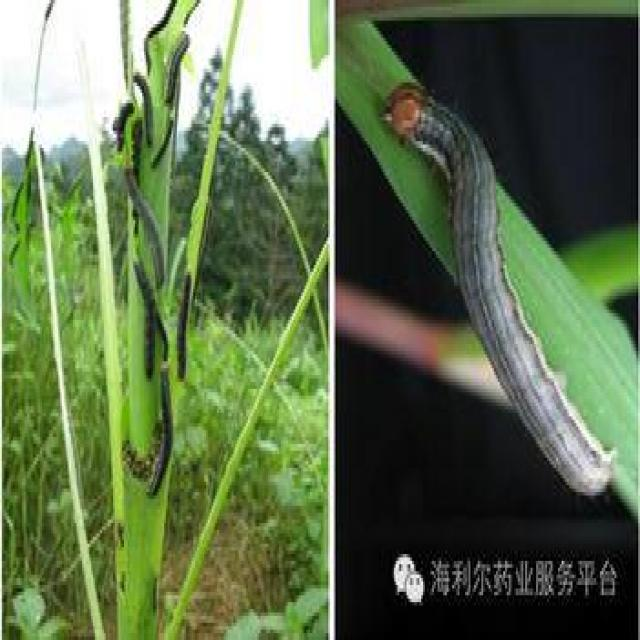BeetArmyWorm-Larva-: (372, 79, 624, 522), (124, 166, 169, 294), (124, 258, 174, 368), (146, 366, 180, 505), (170, 268, 198, 386), (132, 64, 156, 156), (149, 112, 179, 177), (164, 32, 189, 108), (112, 95, 136, 158), (128, 111, 144, 193)
